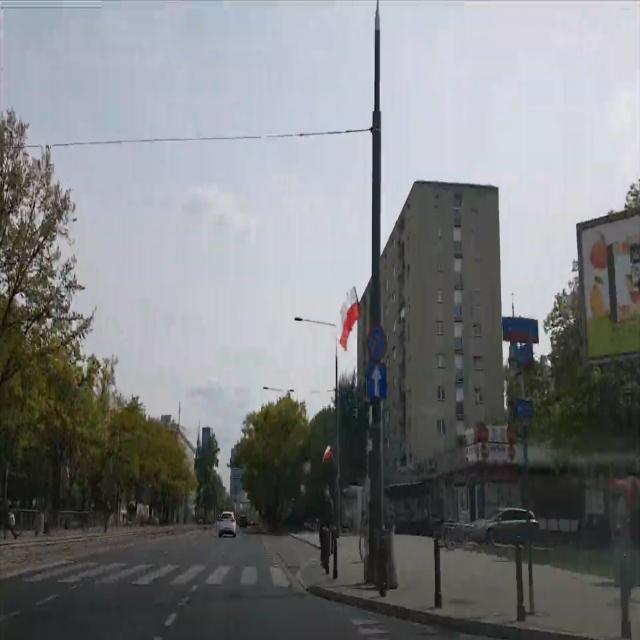Zakaz zatrzymywania sie: (367, 323, 388, 362)
